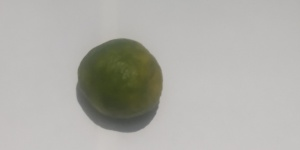BAD: (78, 37, 165, 119)
